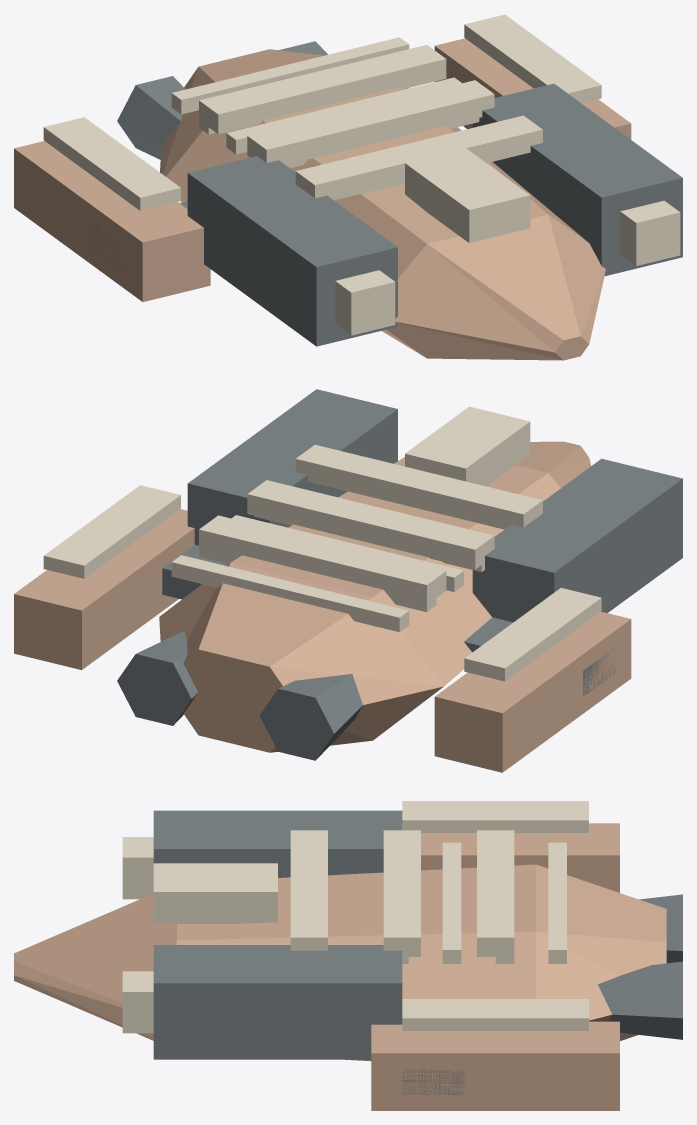
3 views of the same model, one above another, from view 1: azimuth 30°, elevation 25°; view 2: azimuth 150°, elevation 25°; view 3: azimuth 270°, elevation 25° (orthographic). The views are drawn at different scales.
Bounding box in the file's own units: 3.4 × 1.09 × 4.18.
